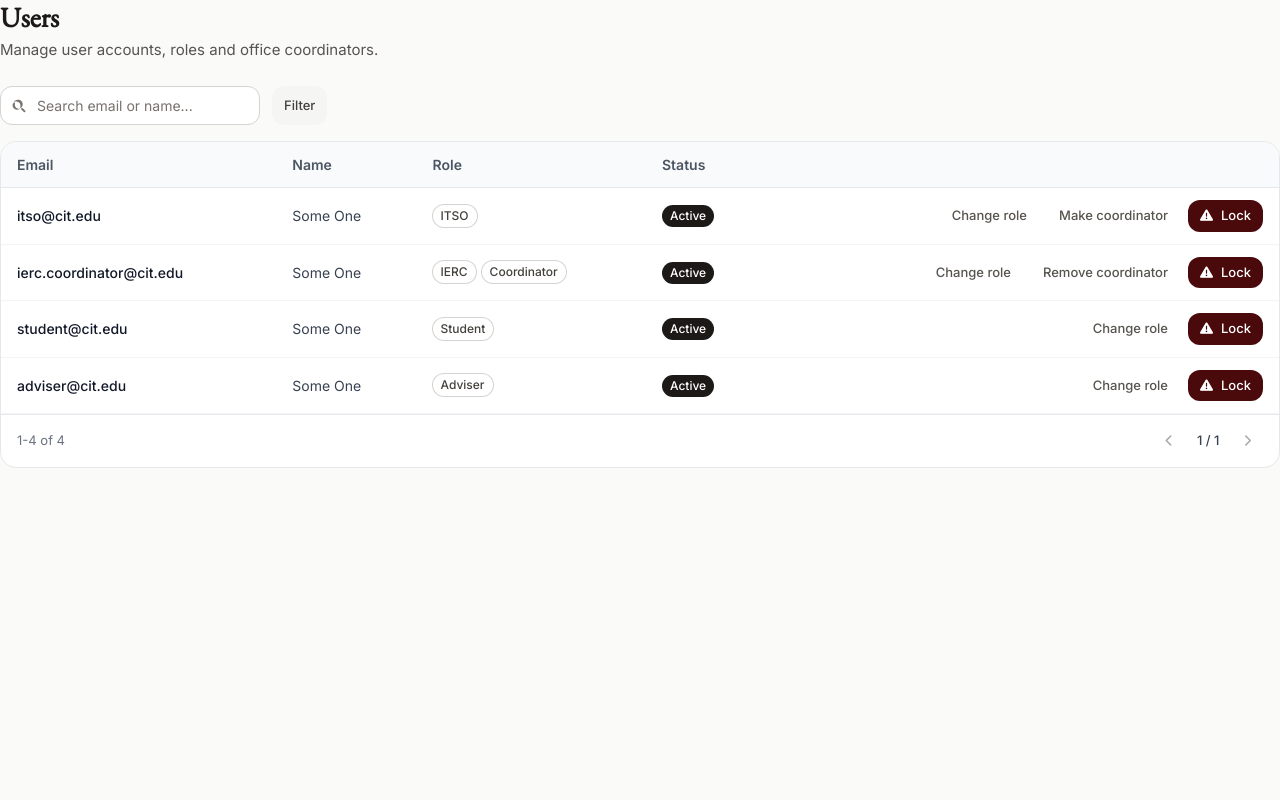
Test: granting › states what a coordinator may do, and confirming updates the row
The image size is (1280, 800).
Click the button "Make coordinator": (1114, 216) [1047,200,1180,232]
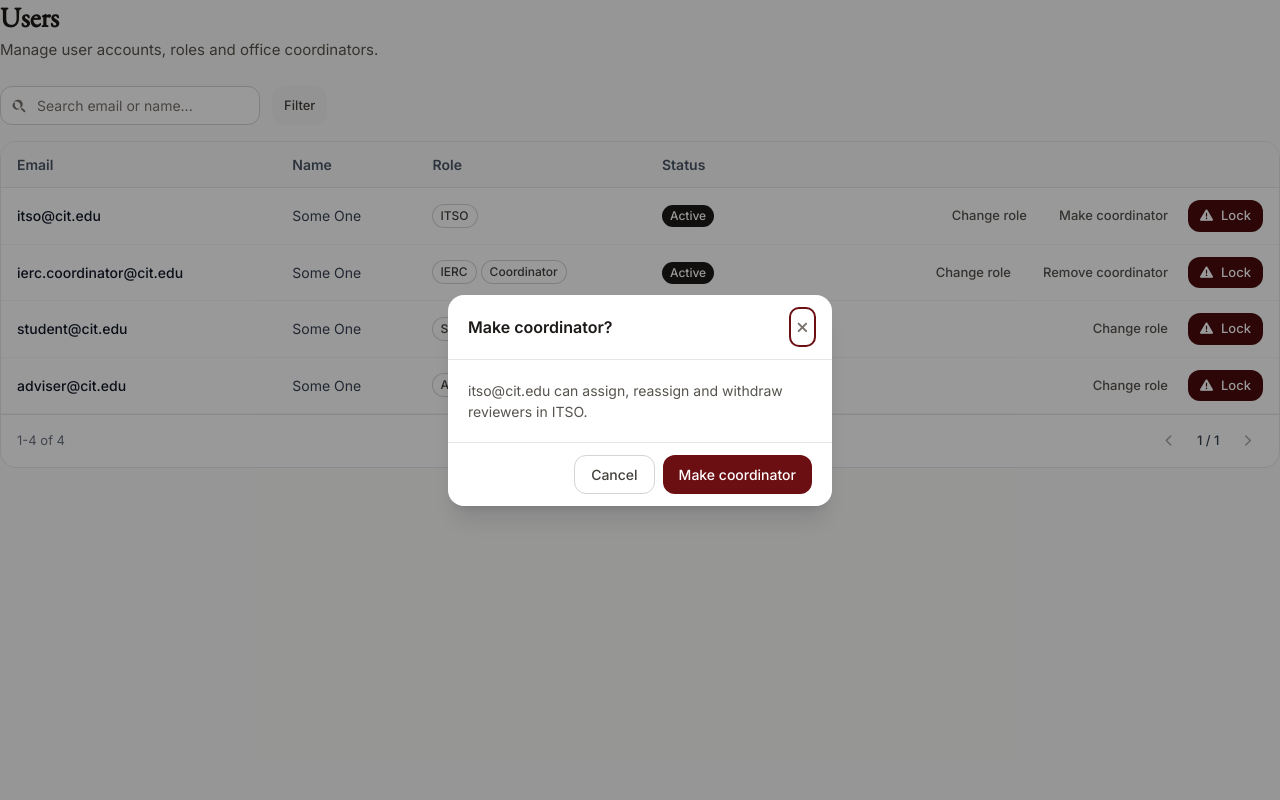
Now the dialog "Make coordinator?" shows "can assign, reassign and withdraw reviewers in ITSO", box [468,382,783,420]
Click the button "Make coordinator": (737, 474) [663,454,812,494]
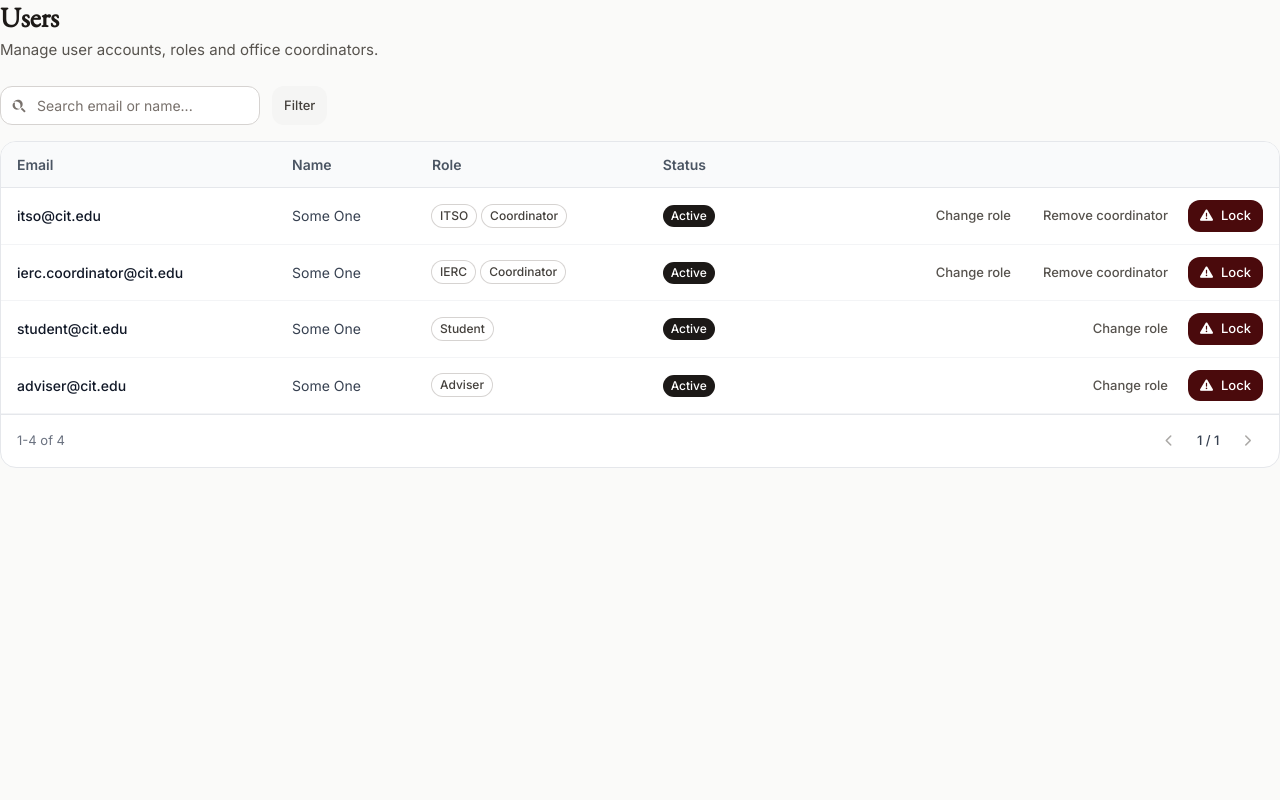
Expected: the text "Coordinator" in the row of "itso@cit.edu" is shown, [490,208,558,223]
Now the button "Remove coordinator" in the row of "itso@cit.edu" is shown, box [1031,200,1180,232]
Now the dialog is gone
